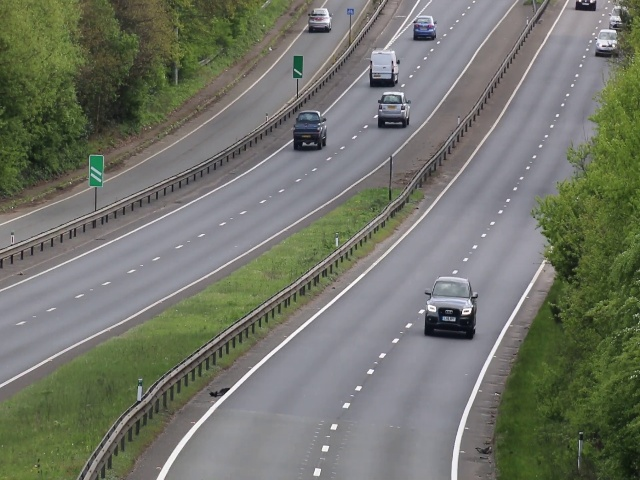car: (423, 275, 477, 339), (292, 109, 327, 151), (377, 90, 412, 128), (369, 50, 401, 86), (306, 6, 335, 34), (412, 15, 438, 41), (595, 28, 617, 56)
